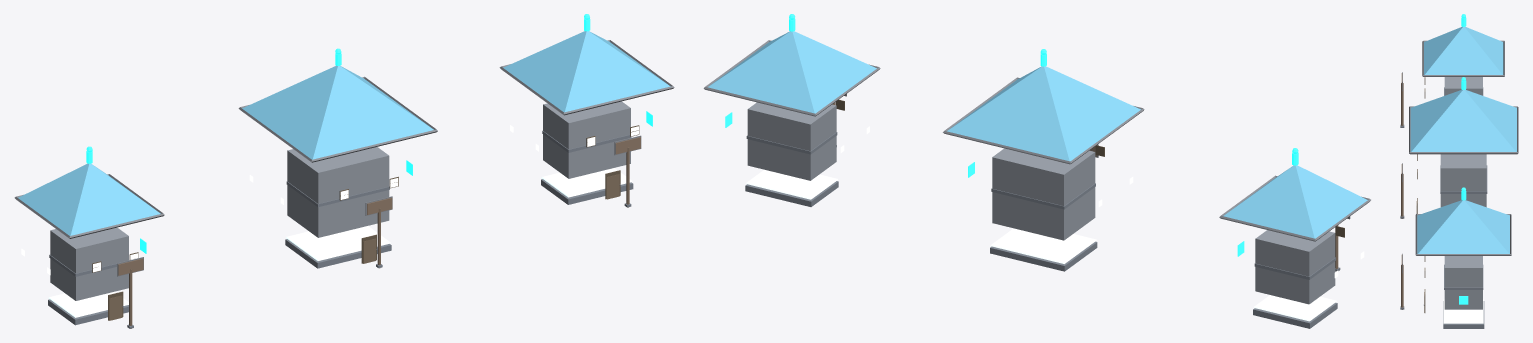
File: town_buildings_v2.glb
3 renders of one model, left to right at view 1: azimuth 30°, elevation 25°; view 2: azimuth 150°, elevation 25°; view 3: azimuth 270°, elevation 25°, orthographic. The views are drawn at different scales.
Parts seen in each view (by area): view 1: QuestHub_Roof, Workshop_Roof, QuestHub_Walls, Shop_Roof, Workshop_Walls, Shop_Walls, QuestHub_BaseTrim, Workshop_BaseTrim, Shop_BaseTrim, QuestHub_RoofEdge, Workshop_RoofEdge, QuestHub_Foundation (+3 smaller); view 2: QuestHub_Roof, QuestHub_Walls, Workshop_Roof, Shop_Roof, Workshop_Walls, Shop_Walls, QuestHub_BaseTrim, Workshop_BaseTrim, Shop_BaseTrim, QuestHub_RoofEdge, QuestHub_Foundation, Workshop_RoofEdge (+3 smaller); view 3: QuestHub_Roof, Workshop_Roof, Shop_Roof, QuestHub_Walls, Workshop_Walls, Workshop_BaseTrim, Shop_Walls, QuestHub_RoofEdge, Workshop_RoofEdge, Workshop_Foundation, Shop_RoofEdge, QuestHub_MidTrim (+4 smaller).
Part boxes in pixels (bbox=[...]): QuestHub_Roof: bbox=[242, 65, 433, 159]; Workshop_Roof: bbox=[503, 31, 670, 112]; QuestHub_Walls: bbox=[287, 147, 389, 237]; Shop_Roof: bbox=[18, 163, 160, 235]; Workshop_Walls: bbox=[543, 101, 630, 178]; Shop_Walls: bbox=[50, 227, 128, 300]; QuestHub_BaseTrim: bbox=[286, 226, 390, 260]; Workshop_BaseTrim: bbox=[541, 168, 632, 197]; Shop_BaseTrim: bbox=[48, 291, 128, 317]; QuestHub_RoofEdge: bbox=[238, 76, 437, 162]; Workshop_RoofEdge: bbox=[499, 40, 674, 115]; QuestHub_Foundation: bbox=[285, 239, 391, 268]; QuestHub_Roof: bbox=[947, 66, 1140, 161]; QuestHub_Walls: bbox=[992, 148, 1095, 240]; Workshop_Roof: bbox=[708, 31, 876, 113]; Shop_Roof: bbox=[1223, 165, 1367, 238]; Workshop_Walls: bbox=[747, 102, 836, 180]; Shop_Walls: bbox=[1255, 230, 1335, 304]; QuestHub_BaseTrim: bbox=[990, 228, 1096, 263]; Workshop_BaseTrim: bbox=[746, 169, 837, 199]; Shop_BaseTrim: bbox=[1254, 295, 1336, 321]; QuestHub_RoofEdge: bbox=[943, 77, 1144, 164]; QuestHub_Foundation: bbox=[990, 241, 1097, 271]; Workshop_RoofEdge: bbox=[703, 40, 880, 116]; QuestHub_Roof: bbox=[1410, 90, 1516, 151]; Workshop_Roof: bbox=[1417, 200, 1509, 253]; Shop_Roof: bbox=[1424, 27, 1503, 74]; QuestHub_Walls: bbox=[1440, 154, 1486, 207]; Workshop_Walls: bbox=[1444, 256, 1482, 309]; Workshop_BaseTrim: bbox=[1443, 299, 1483, 323]; Shop_Walls: bbox=[1444, 77, 1482, 95]; QuestHub_RoofEdge: bbox=[1409, 106, 1518, 154]; Workshop_RoofEdge: bbox=[1415, 214, 1511, 255]; Workshop_Foundation: bbox=[1443, 301, 1484, 328]; Shop_RoofEdge: bbox=[1422, 40, 1504, 76]; QuestHub_MidTrim: bbox=[1440, 165, 1487, 193].
Bounding box in the file's own units: 17.28 × 5.35 × 3.84.
